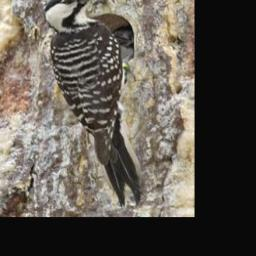Woodpecker: (43, 0, 145, 208)
